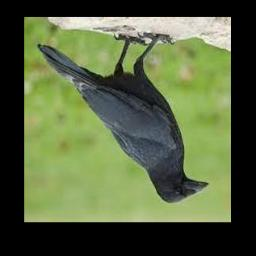Crow: (38, 33, 208, 204)
